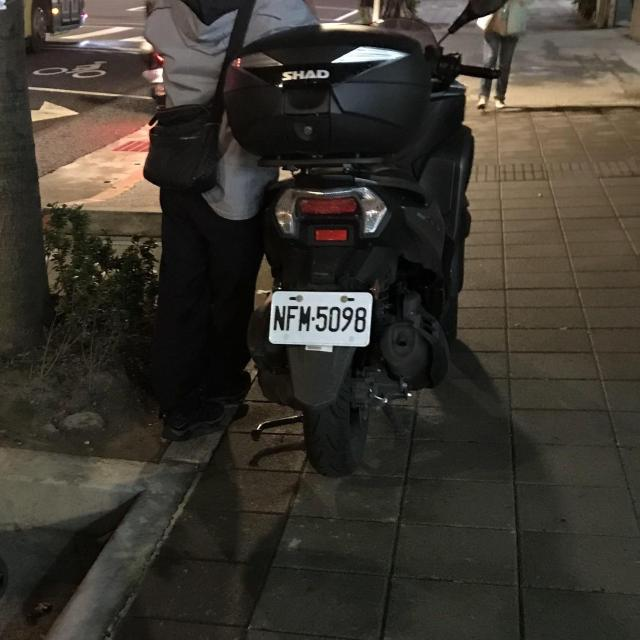W: (266, 286, 374, 350)
